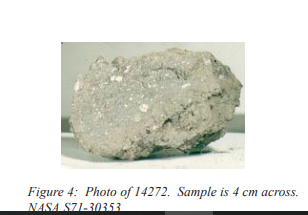Breccia: (57, 45, 245, 164), (163, 43, 241, 147), (112, 83, 238, 146)
